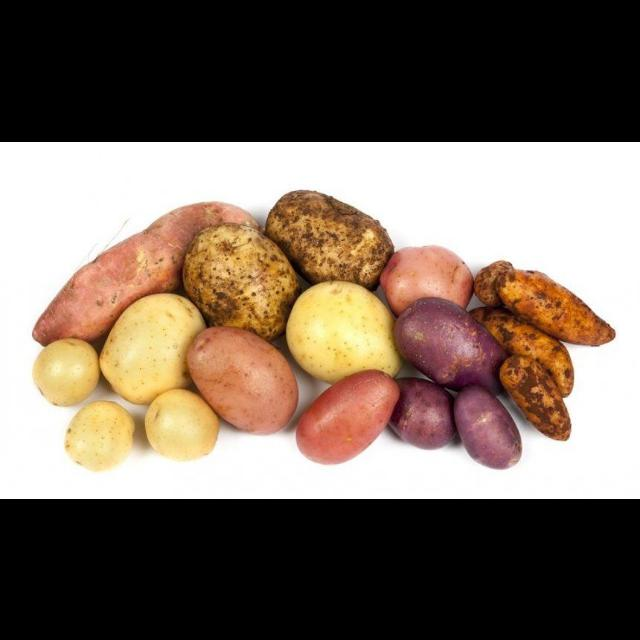Defected potato: (182, 319, 308, 439), (390, 296, 516, 396), (295, 364, 403, 466), (382, 239, 478, 319), (452, 382, 526, 472)
Diseased-fungal potato: (264, 182, 404, 294), (179, 219, 303, 343)
Potato: (280, 274, 410, 388), (94, 289, 220, 406), (58, 396, 140, 474), (142, 387, 225, 458), (33, 337, 103, 408)
